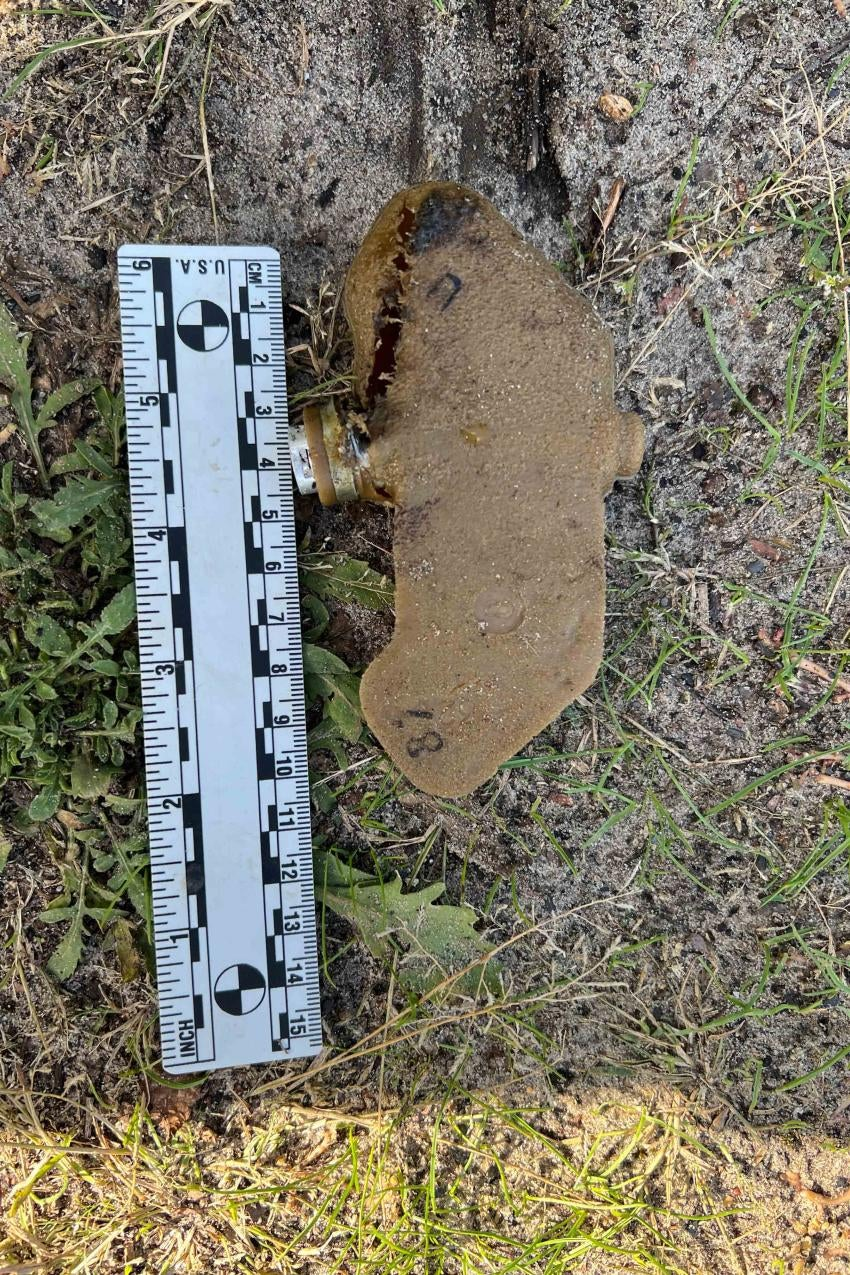butterfly: (295, 171, 676, 809)
